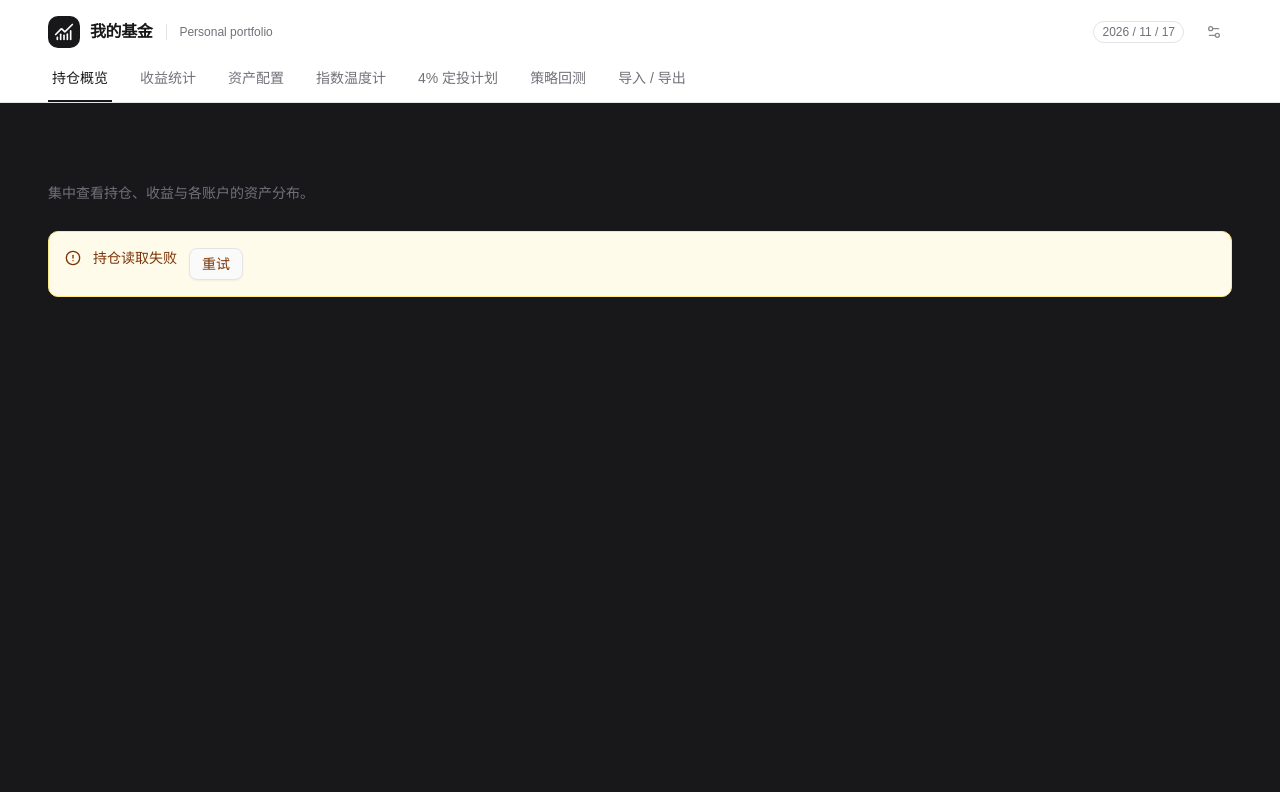
Test: 持仓读取失败时仍可打开独立定投账本
Click the button "4% 定投计划" at (458, 83), box [414,64,502,102]
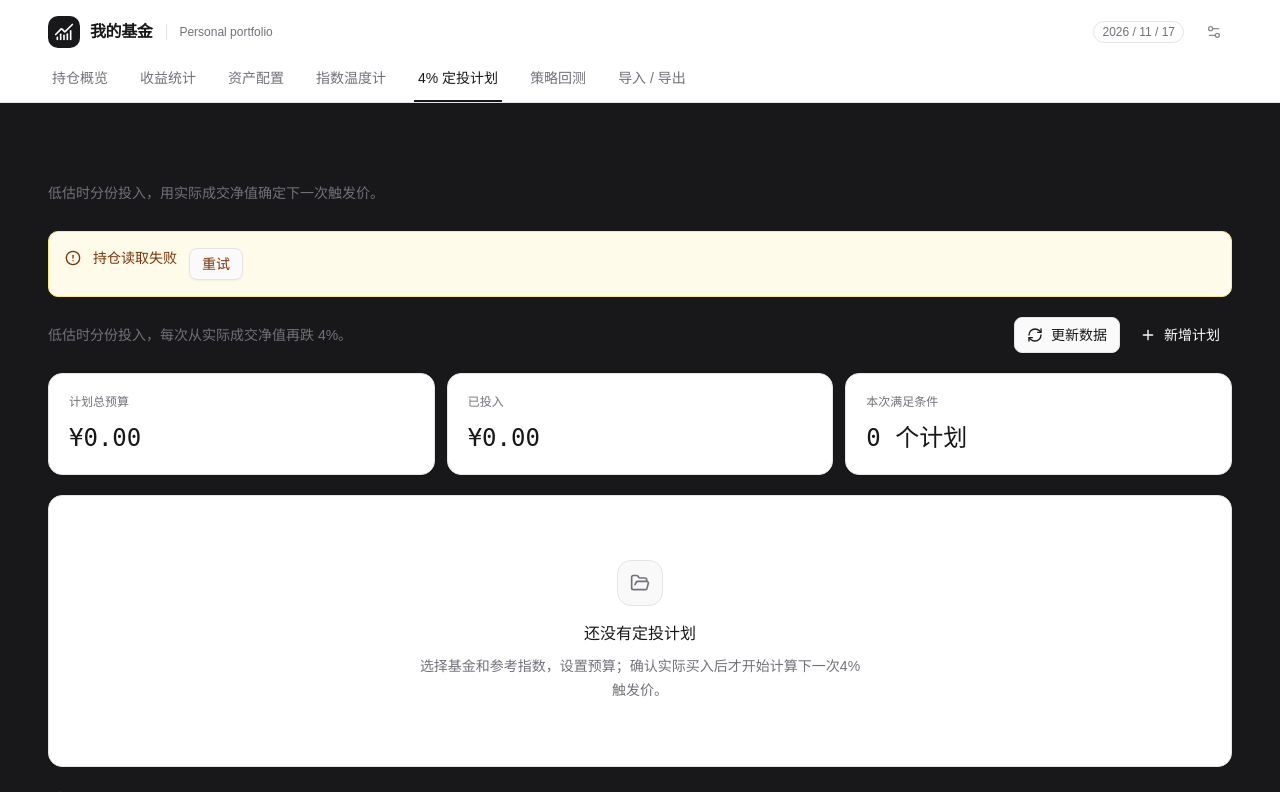
Check: the text "持仓读取失败" is shown, box [93,248,177,268]
Check: the heading "还没有定投计划" is shown, box [584,622,696,646]
